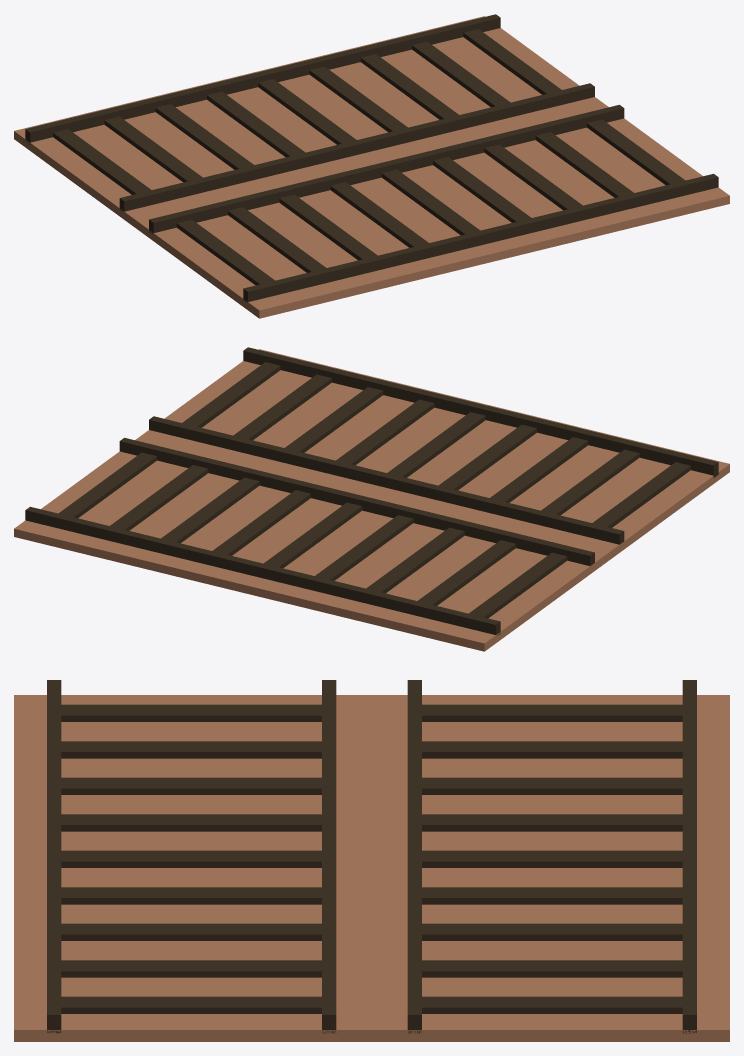
Rendered from RailTrackTile_2.fbx.
3 renders of one model, top to bottom at view 1: azimuth 30°, elevation 25°; view 2: azimuth 150°, elevation 25°; view 3: azimuth 270°, elevation 25°, orthographic. The views are drawn at different scales.
Visible parts, largest first — view 1: RailTrackTile_2; view 2: RailTrackTile_2; view 3: RailTrackTile_2.
Part boxes in pixels (x1,y1,x2,y2): RailTrackTile_2: [14, 14, 729, 318]; RailTrackTile_2: [14, 347, 729, 651]; RailTrackTile_2: [14, 680, 729, 1041].
Bounding box in the file's own units: 600 × 22.41 × 542.
